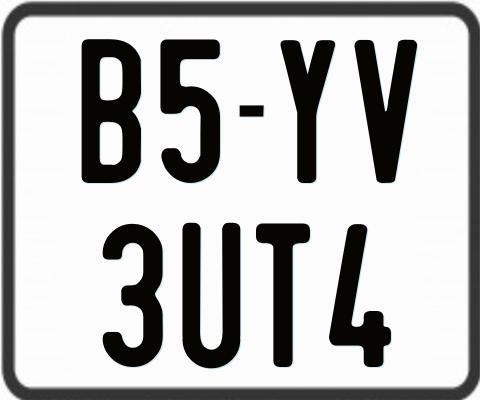3: (100, 224, 162, 371)
4: (327, 221, 389, 367)
5: (158, 36, 222, 182)
B: (82, 37, 146, 184)
T: (254, 220, 309, 369)
U: (181, 223, 239, 371)
V: (354, 39, 419, 184)
Y: (281, 40, 336, 189)
